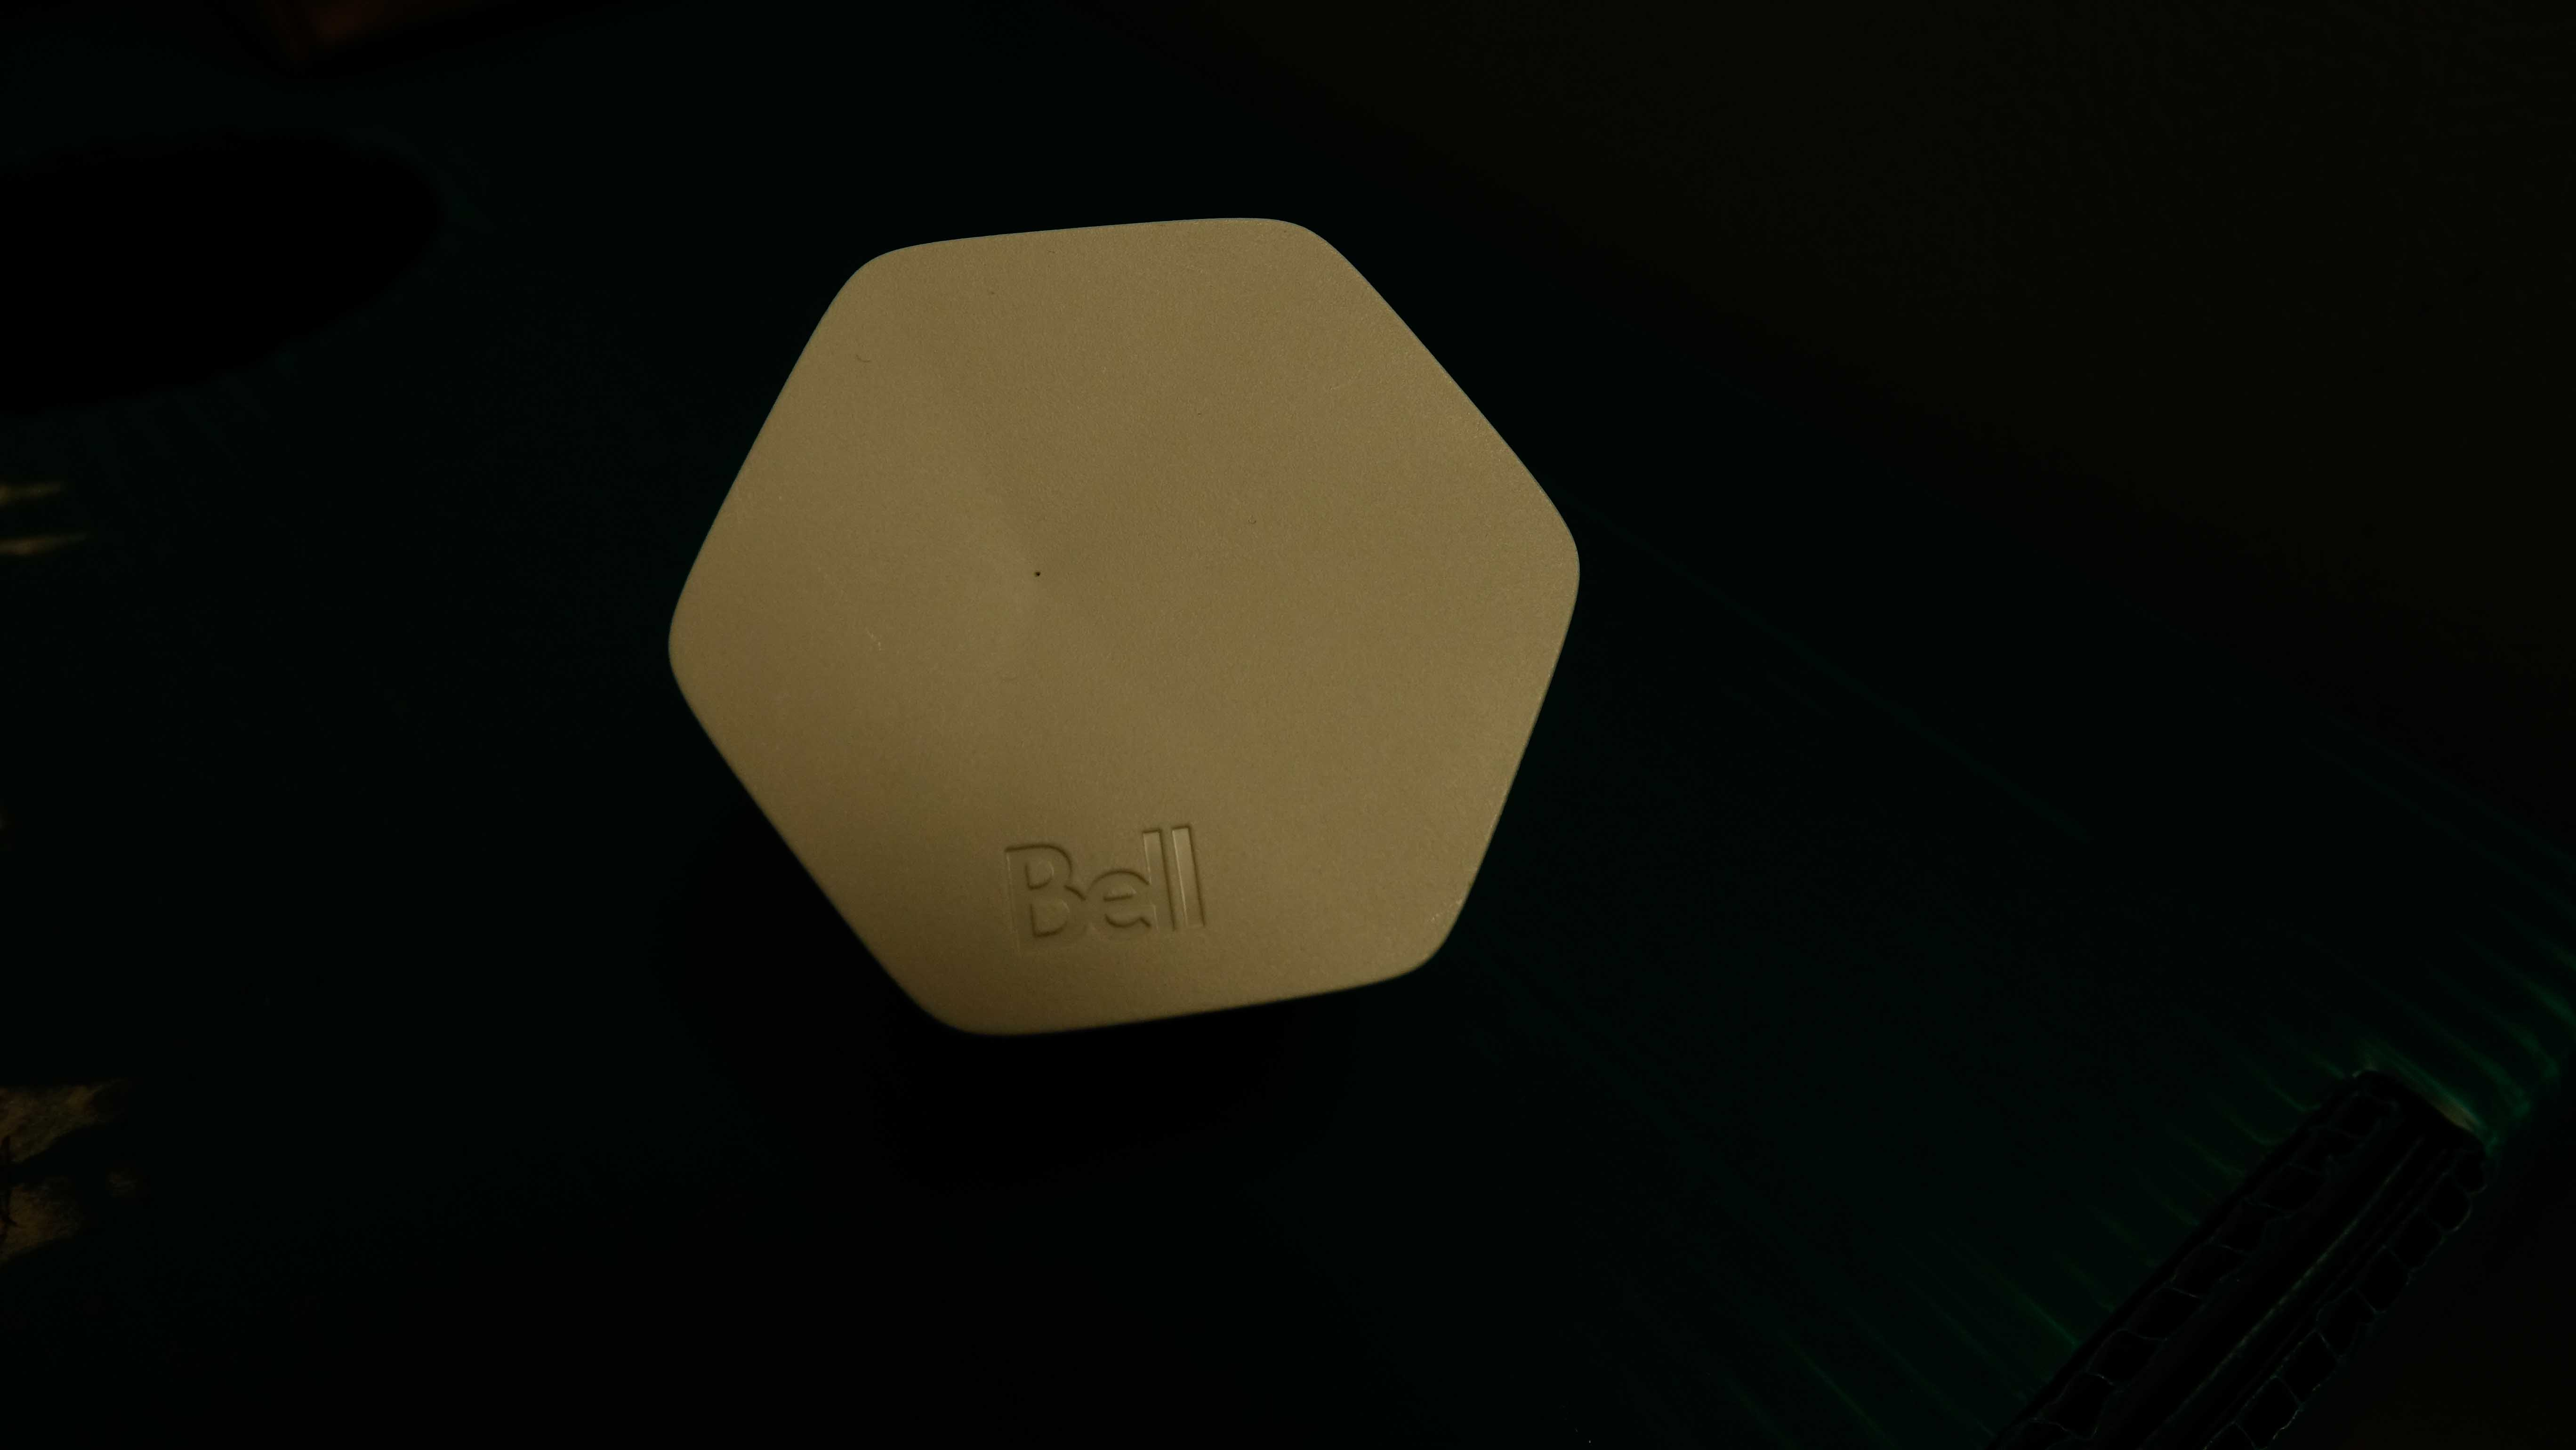pod: (656, 202, 1610, 1047)
